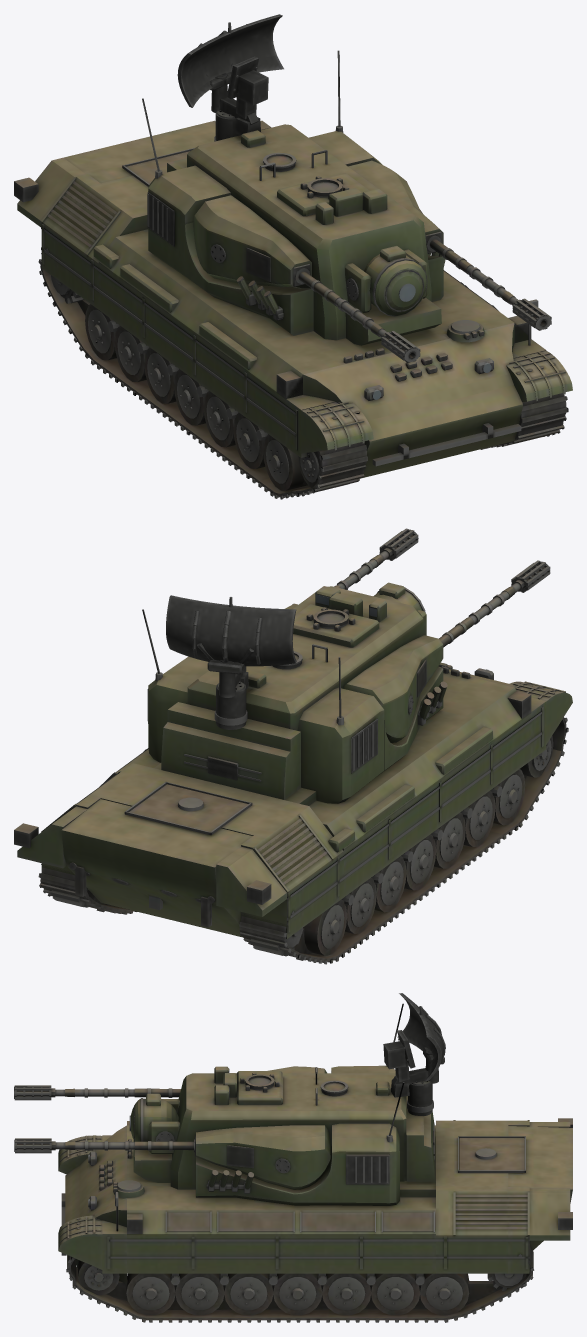
File: gepard.glb
3 views of the same model, one above another, from view 1: azimuth 30°, elevation 25°; view 2: azimuth 150°, elevation 25°; view 3: azimuth 270°, elevation 25° (orthographic). The views are drawn at different scales.
Visible parts, largest first — view 1: hull, turret, track, gun; view 2: hull, turret, track, gun; view 3: hull, turret, track, gun.
Boxes of the visible parts, <box> form: hull: <box>14,120,572,479</box>; turret: <box>142,14,445,345</box>; track: <box>38,248,568,499</box>; gun: <box>193,160,551,362</box>; hull: <box>14,603,572,938</box>; turret: <box>142,582,447,803</box>; track: <box>38,717,568,964</box>; gun: <box>285,528,550,742</box>; hull: <box>58,1118,572,1284</box>; turret: <box>129,993,445,1205</box>; track: <box>66,1244,534,1322</box>; gun: <box>14,1066,330,1189</box>.
Bounding box in the file's own units: 3.24 × 4.03 × 7.67.
Materials: 4 (4 with a texture image).
